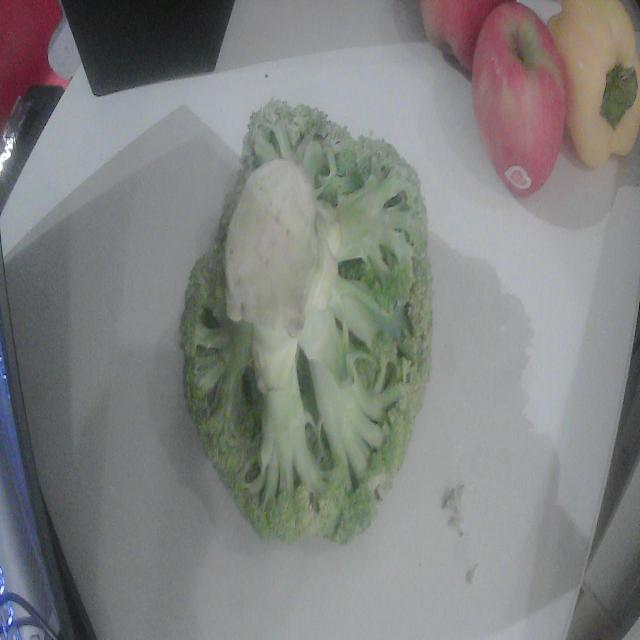Apple: (472, 4, 566, 196)
Bell Pepper: (548, 0, 640, 169)
Broccoli: (182, 100, 431, 541)
